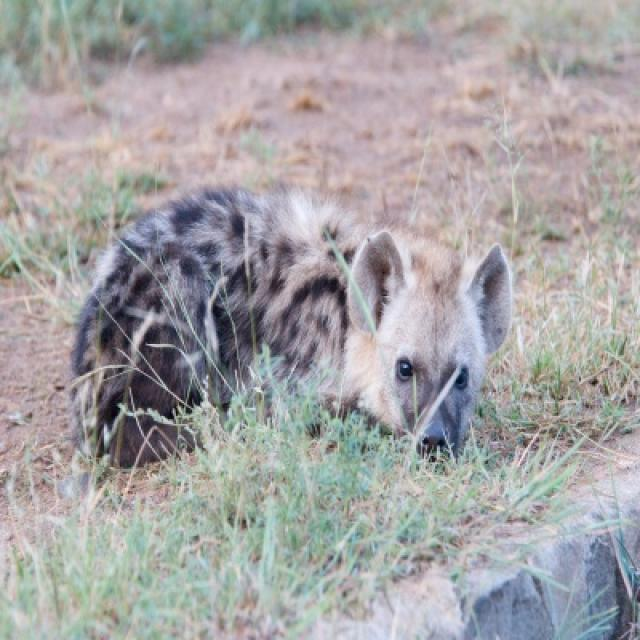hyena: (69, 184, 515, 474)
